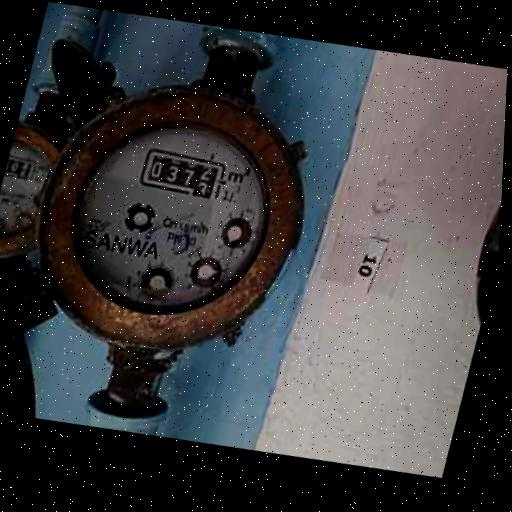0: (146, 153, 168, 182)
2: (192, 161, 219, 199)
3: (161, 155, 185, 184)
7: (177, 159, 201, 188)
border_water_meter_number: (135, 139, 231, 205)
